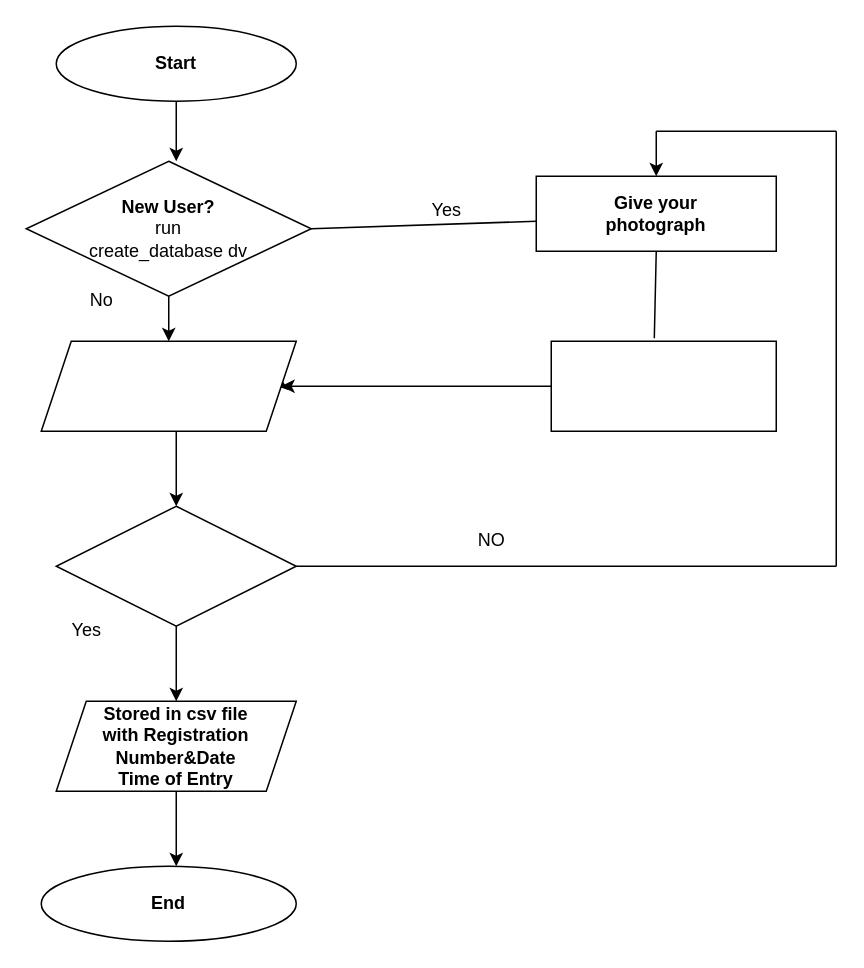
This 864x968 diagram has some shape labels left out. The box of each missing label's shape, as (x1, y1, x2, y2) in pixels:
Face Recognized: (55, 505, 296, 626)
Store the face data in folder on your name: (550, 340, 776, 431)
